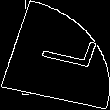L_W: (20, 33, 90, 77)
